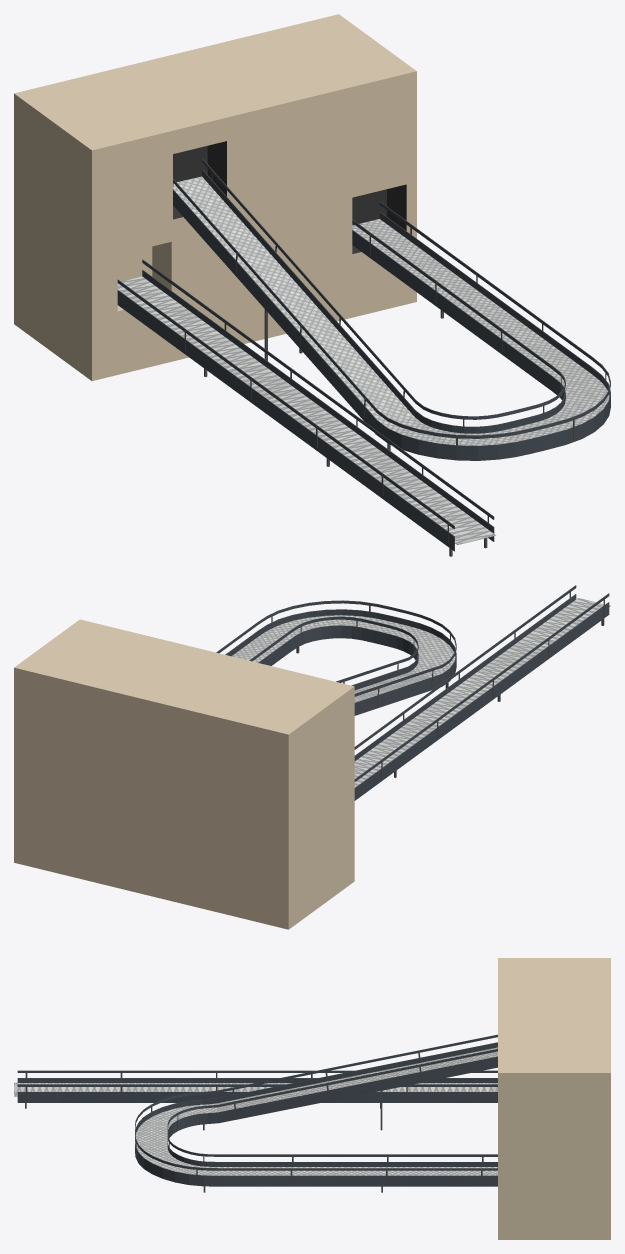
File: Laufband.fbx
3 views of the same model, one above another, from view 1: azimuth 30°, elevation 25°; view 2: azimuth 150°, elevation 25°; view 3: azimuth 270°, elevation 25° (orthographic). The views are drawn at different scales.
Visible parts, largest first — view 1: Base, Plane_up, Plane_flat; view 2: Base, Plane_flat, Plane_up; view 3: Base, Plane_up, Plane_flat.
Boxes of the visible parts, x1,y1,x2,y2 form: Base: [14, 14, 610, 556]; Plane_up: [173, 176, 609, 445]; Plane_flat: [117, 276, 495, 544]; Base: [14, 585, 609, 929]; Plane_flat: [354, 598, 610, 787]; Plane_up: [232, 615, 455, 702]; Base: [17, 958, 610, 1239]; Plane_up: [135, 1047, 497, 1175]; Plane_flat: [14, 1082, 497, 1096].
Size of the model in its own units: 1682 by 1141 by 3697.
